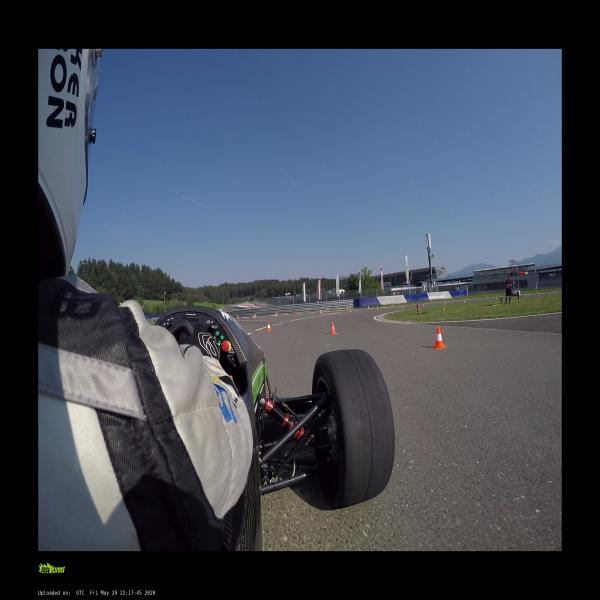orange_cone: (433, 326, 445, 348), (331, 321, 336, 334), (268, 322, 272, 331), (443, 306, 445, 311), (296, 311, 298, 316), (275, 313, 277, 317), (320, 310, 322, 314), (276, 312, 278, 316), (376, 307, 378, 310), (402, 306, 404, 308), (237, 315, 238, 319), (254, 315, 255, 319), (350, 308, 351, 312), (423, 303, 424, 307), (320, 310, 321, 314), (367, 306, 368, 309), (255, 314, 256, 317), (347, 308, 348, 310)
